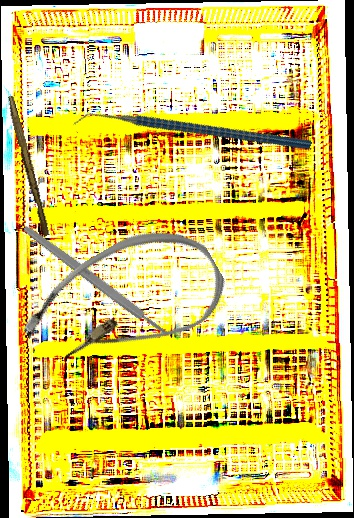Cannula: (9, 205, 238, 402)
Chopper: (72, 41, 313, 227)
Scalpel Handle: (20, 222, 172, 341), (3, 95, 53, 237)
